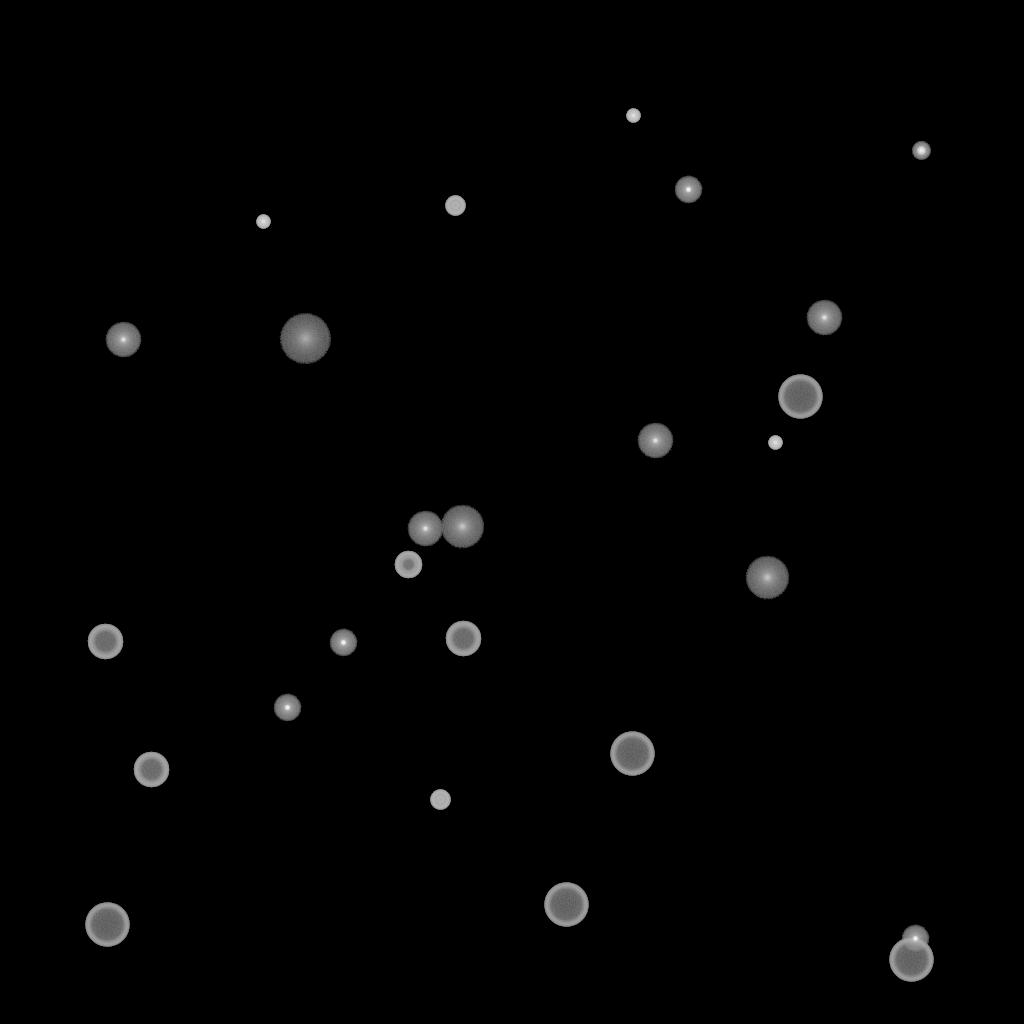depth:-10: (674, 176, 702, 204), (329, 629, 357, 657), (273, 694, 301, 722), (901, 925, 929, 953)
depth:-20: (912, 142, 930, 160)
depth:-30: (256, 215, 270, 229), (768, 436, 782, 450), (626, 109, 640, 123)
depth:-40: (430, 790, 450, 810), (445, 196, 465, 216)
depth:-50: (394, 551, 422, 579)
depth:-60: (133, 752, 169, 788), (87, 624, 123, 660), (445, 621, 481, 657)
depth:-70: (544, 883, 588, 927), (85, 903, 129, 947), (889, 938, 933, 982), (610, 732, 654, 776), (778, 375, 822, 419)
depth:0: (407, 511, 443, 547), (105, 322, 141, 358), (806, 300, 842, 336), (637, 423, 673, 459)
depth:10: (745, 556, 789, 600), (440, 505, 484, 549)
depth:20: (279, 314, 331, 364)
